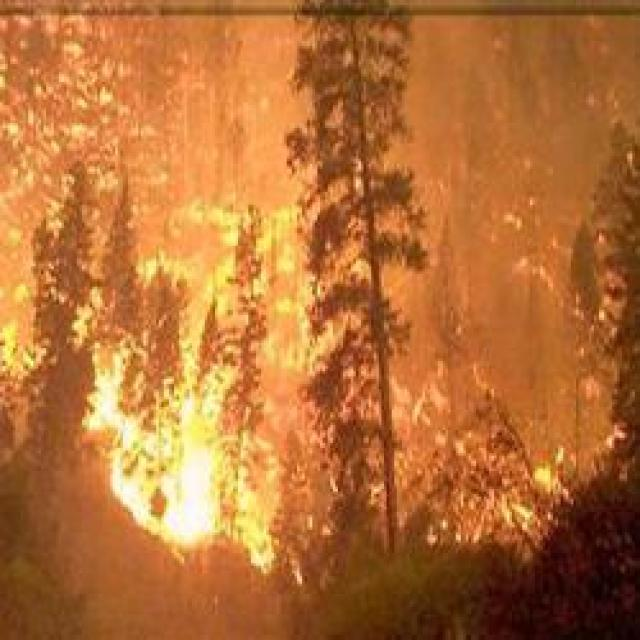fire: (171, 431, 221, 555), (110, 461, 172, 534), (87, 374, 137, 448)
